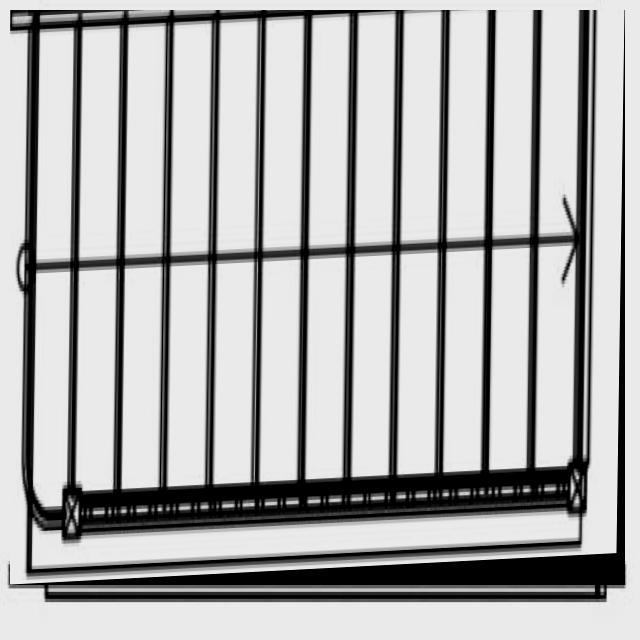stair: (10, 10, 625, 585)
